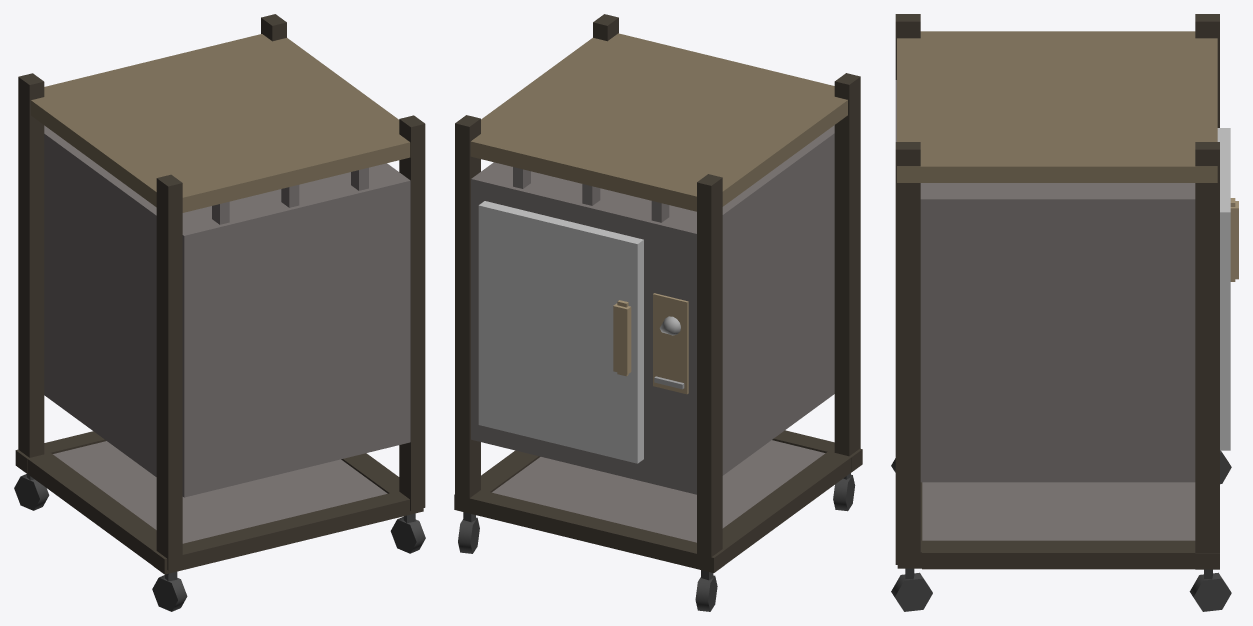
File: SM_Frig_01.FBX
3 renders of one model, left to right at view 1: azimuth 30°, elevation 25°; view 2: azimuth 150°, elevation 25°; view 3: azimuth 270°, elevation 25°, orthographic. The views are drawn at different scales.
Visible parts, largest first — view 1: SM_Frig_01; view 2: SM_Frig_01; view 3: SM_Frig_01.
Boxes of the visible parts, box(x1,y1,x2,y2) form: SM_Frig_01: box(14, 14, 425, 611); SM_Frig_01: box(454, 14, 862, 611); SM_Frig_01: box(891, 14, 1238, 611).
Size of the model in its own units: 106 by 113 by 166.
